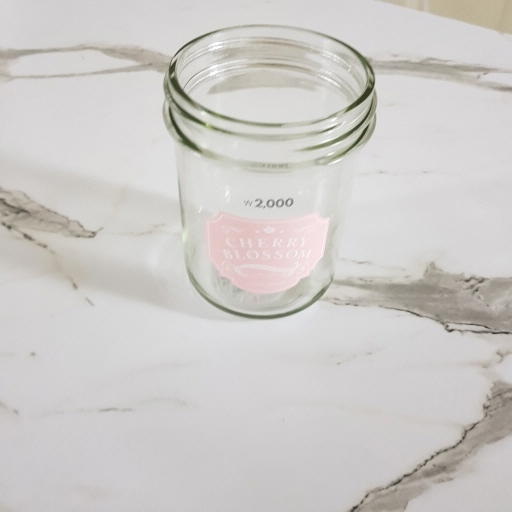Glass_5: (162, 30, 380, 316)
